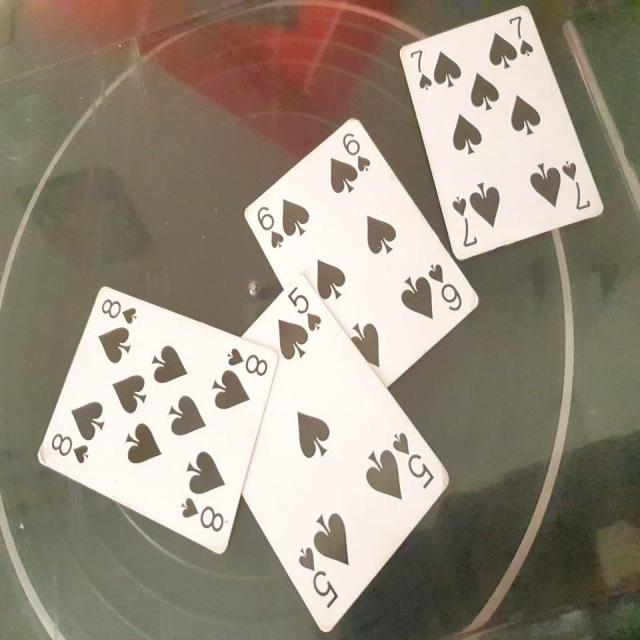5 Spades: (208, 264, 454, 640)
6 Spades: (226, 108, 484, 378)
7 Spades: (398, 1, 607, 266)
8 Spades: (27, 275, 283, 567)
